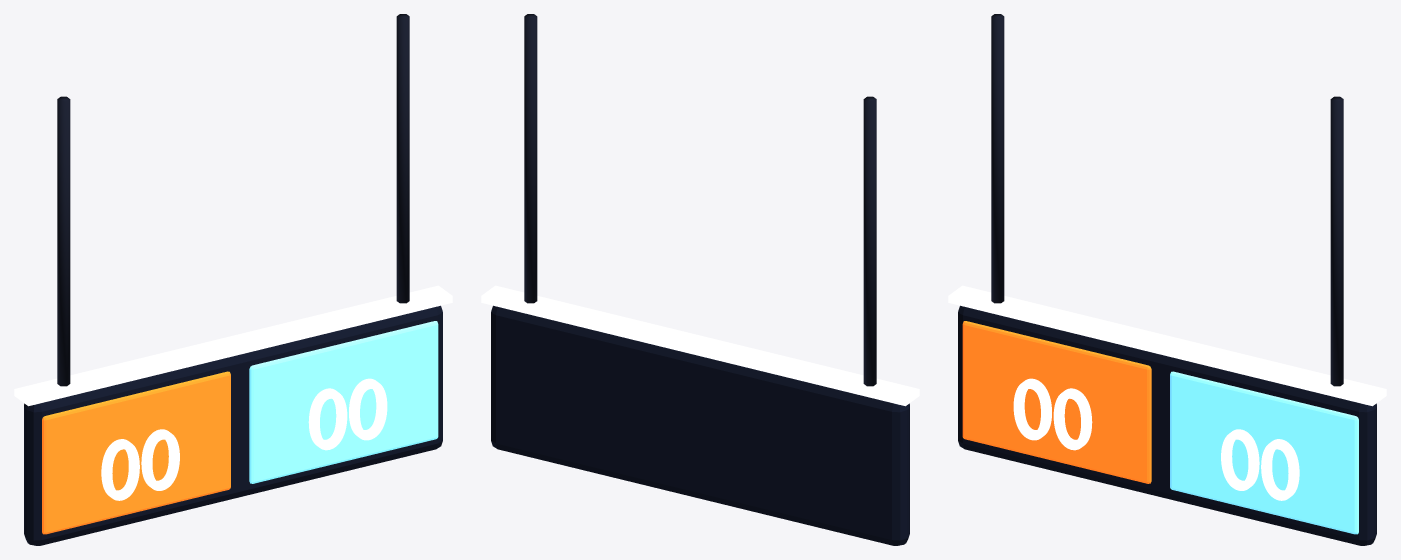
Rendered from tableau_score.glb.
The picture shows the model from 3 angles, left to right: view 1: azimuth 30°, elevation 25°; view 2: azimuth 150°, elevation 25°; view 3: azimuth 330°, elevation 25°; orthographic projection.
Parts seen in each view (by area): view 1: ZoneBleue, ZoneOrange, Panneau, LisereHaut, Cable-1, Cable1, Chiffre, Chiffre.001; view 2: Panneau, LisereHaut, Cable-1, Cable1; view 3: ZoneOrange, ZoneBleue, Panneau, LisereHaut, Cable1, Cable-1, Chiffre.001, Chiffre.
Part boxes in pixels (x1=…): ZoneBleue: x1=249, y1=321, x2=438, y2=483; ZoneOrange: x1=42, y1=371, x2=230, y2=534; Panneau: x1=24, y1=305, x2=442, y2=545; LisereHaut: x1=14, y1=285, x2=452, y2=406; Cable-1: x1=57, y1=96, x2=70, y2=386; Cable1: x1=396, y1=14, x2=409, y2=303; Chiffre: x1=101, y1=429, x2=179, y2=500; Chiffre.001: x1=308, y1=378, x2=387, y2=450; Panneau: x1=491, y1=305, x2=909, y2=545; LisereHaut: x1=481, y1=285, x2=919, y2=406; Cable-1: x1=863, y1=96, x2=876, y2=386; Cable1: x1=524, y1=14, x2=537, y2=303; ZoneOrange: x1=962, y1=321, x2=1151, y2=483; ZoneBleue: x1=1170, y1=371, x2=1358, y2=534; Panneau: x1=958, y1=305, x2=1376, y2=545; LisereHaut: x1=948, y1=285, x2=1386, y2=406; Cable1: x1=1330, y1=96, x2=1343, y2=386; Cable-1: x1=991, y1=14, x2=1004, y2=303; Chiffre.001: x1=1221, y1=429, x2=1299, y2=500; Chiffre: x1=1013, y1=378, x2=1092, y2=450.
Bounding box in the file's own units: 4.5 × 4.45 × 0.36.
